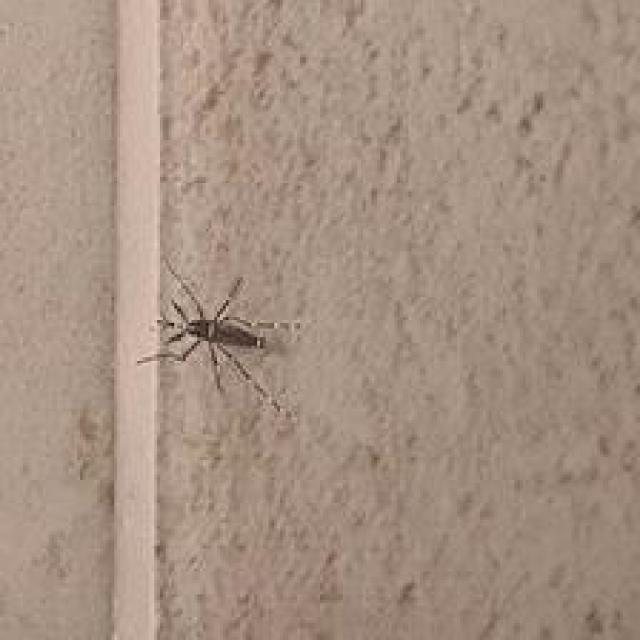Aedes albopictus: (134, 256, 303, 418)
